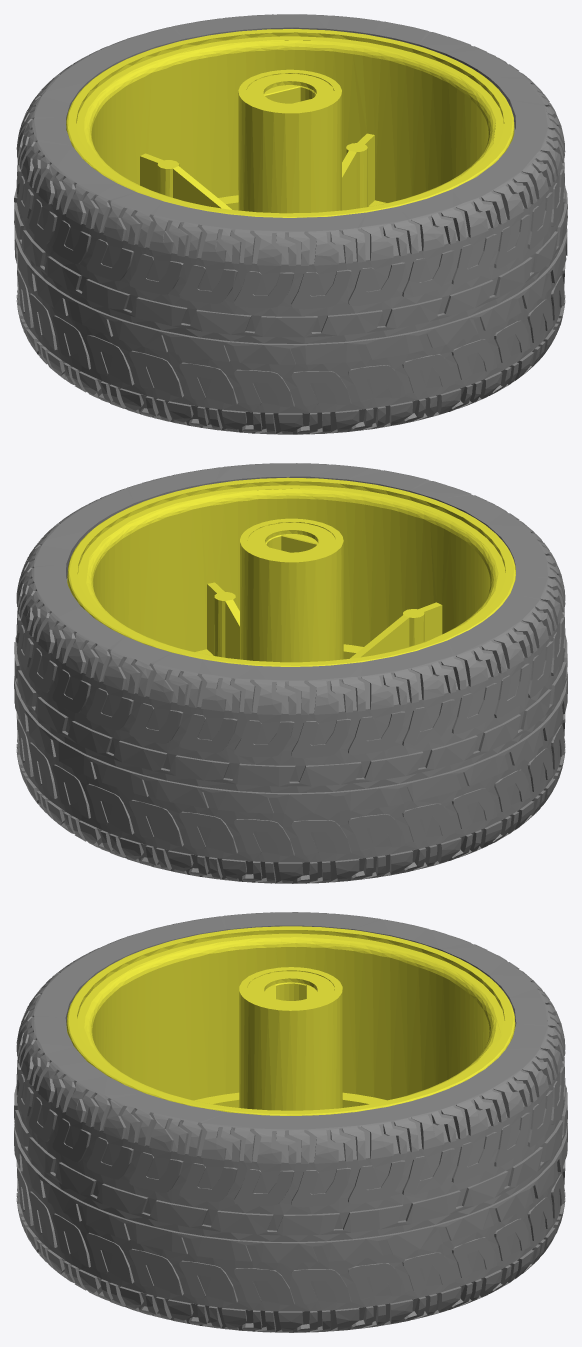
The model's file is tekerlekler_lowMesh.dae.
3 views of the same model, one above another, from view 1: azimuth 30°, elevation 25°; view 2: azimuth 150°, elevation 25°; view 3: azimuth 270°, elevation 25° (orthographic).
Visible parts, largest first — view 1: node0, node1; view 2: node0, node1; view 3: node0, node1.
Part boxes in pixels (bbox=[...]): node0: bbox=[14, 14, 567, 434]; node1: bbox=[66, 29, 514, 217]; node0: bbox=[14, 463, 567, 883]; node1: bbox=[67, 477, 515, 666]; node0: bbox=[14, 912, 567, 1332]; node1: bbox=[66, 926, 515, 1115].
Size of the model in its own units: 0.0642 by 0.0642 by 0.03.
